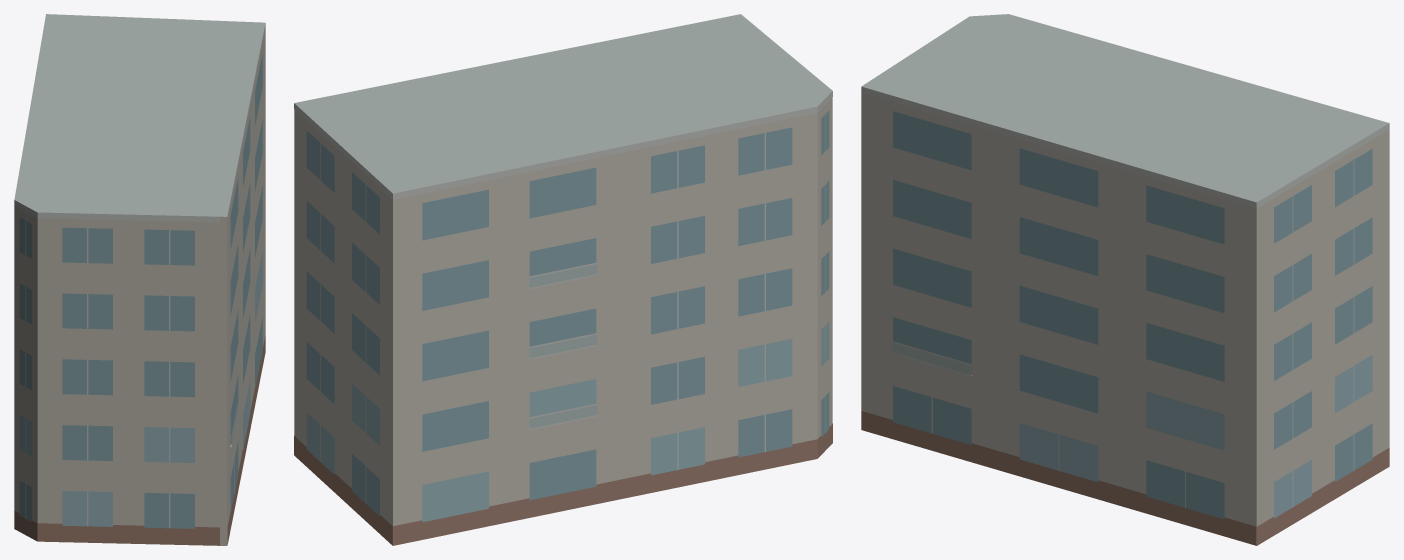
File: survey-upis-32782637.glb
3 renders of one model, left to right at view 1: azimuth 30°, elevation 25°; view 2: azimuth 150°, elevation 25°; view 3: azimuth 270°, elevation 25°, orthographic. The views are drawn at different scales.
Parts seen in each view (by area): view 1: survey-upis-32782637.tmp; view 2: survey-upis-32782637.tmp; view 3: survey-upis-32782637.tmp.
Part boxes in pixels (x1,y1,x2,y2): survey-upis-32782637.tmp: (14,14,265,545); survey-upis-32782637.tmp: (294,14,832,545); survey-upis-32782637.tmp: (861,14,1389,545).
Bounding box in the file's own units: 16.25 × 13.8 × 19.25.
